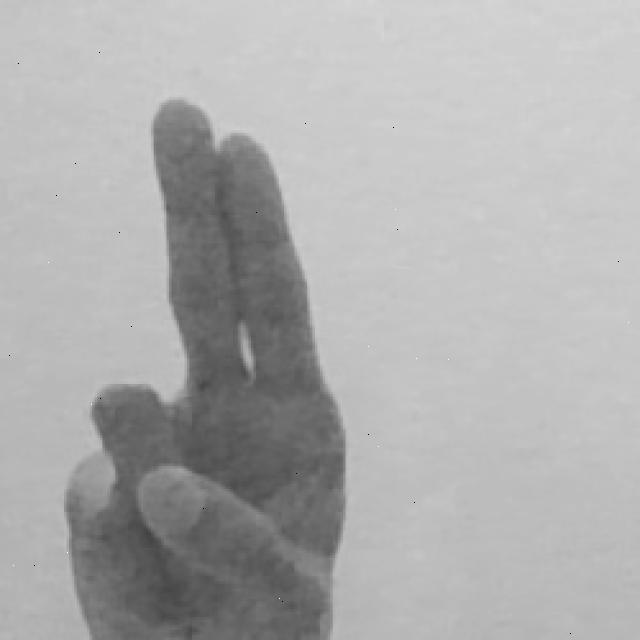U: (60, 92, 362, 640)
